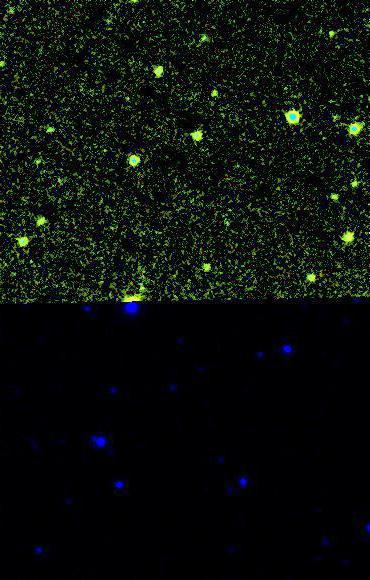star: (302, 16, 332, 46)
